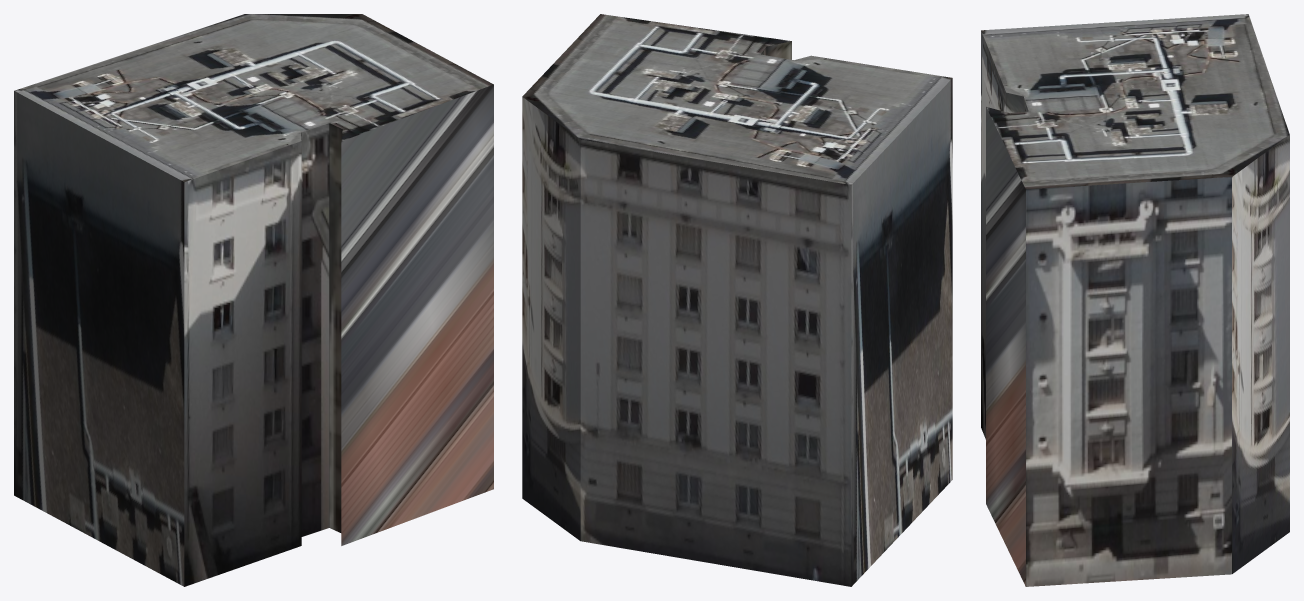
3 views of the same model, side by side, from view 1: azimuth 30°, elevation 25°; view 2: azimuth 150°, elevation 25°; view 3: azimuth 270°, elevation 25° (orthographic).
Visible parts, largest first — view 1: Z_UP; view 2: Z_UP; view 3: Z_UP.
Boxes of the visible parts, x1,y1,x2,y2 form: Z_UP: (14, 14, 493, 586); Z_UP: (522, 14, 952, 586); Z_UP: (981, 14, 1289, 586).
Size of the model in its own units: 20.07 by 21.19 by 14.92.
2 materials, 1 textured.
